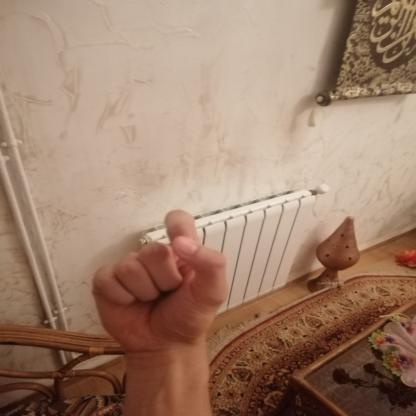FAA: (73, 200, 244, 367)
